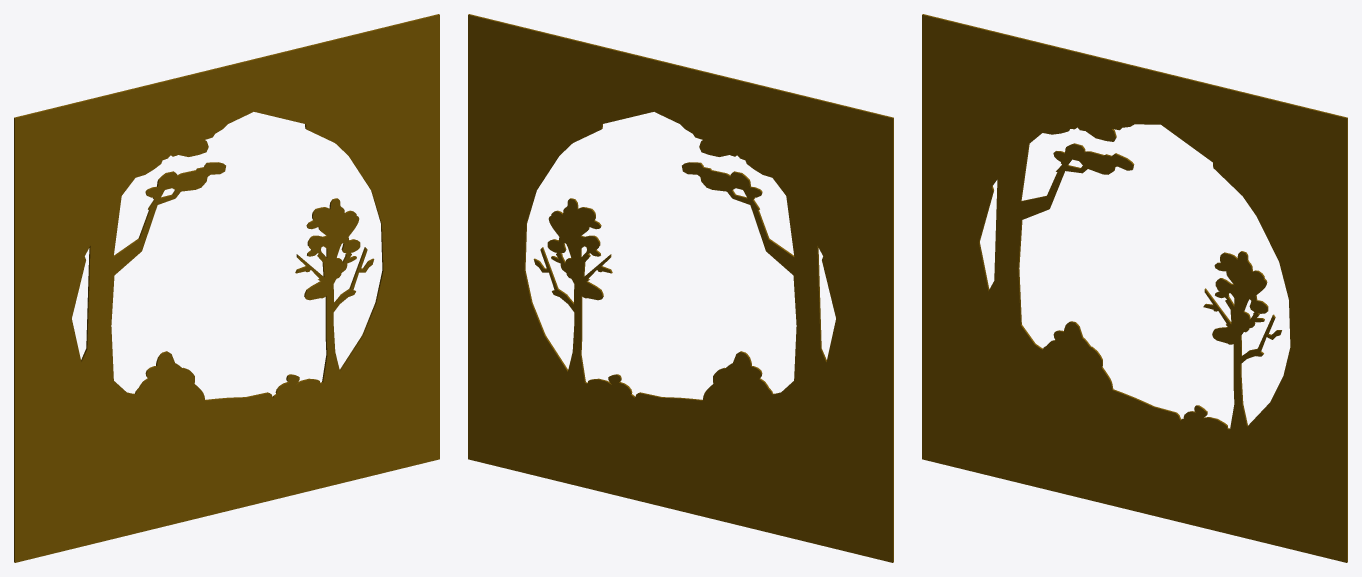
The model's file is Autumn_B_2.fbx.
3 renders of one model, left to right at view 1: azimuth 30°, elevation 25°; view 2: azimuth 150°, elevation 25°; view 3: azimuth 330°, elevation 25°, orthographic.
Parts seen in each view (by area): view 1: fall2b; view 2: fall2b; view 3: fall2b.
Part boxes in pixels (x1,y1,x2,y2): fall2b: [14, 14, 439, 562]; fall2b: [468, 14, 893, 562]; fall2b: [922, 14, 1347, 562].
Size of the model in its own units: 10.12 by 10.12 by 0.0458.
